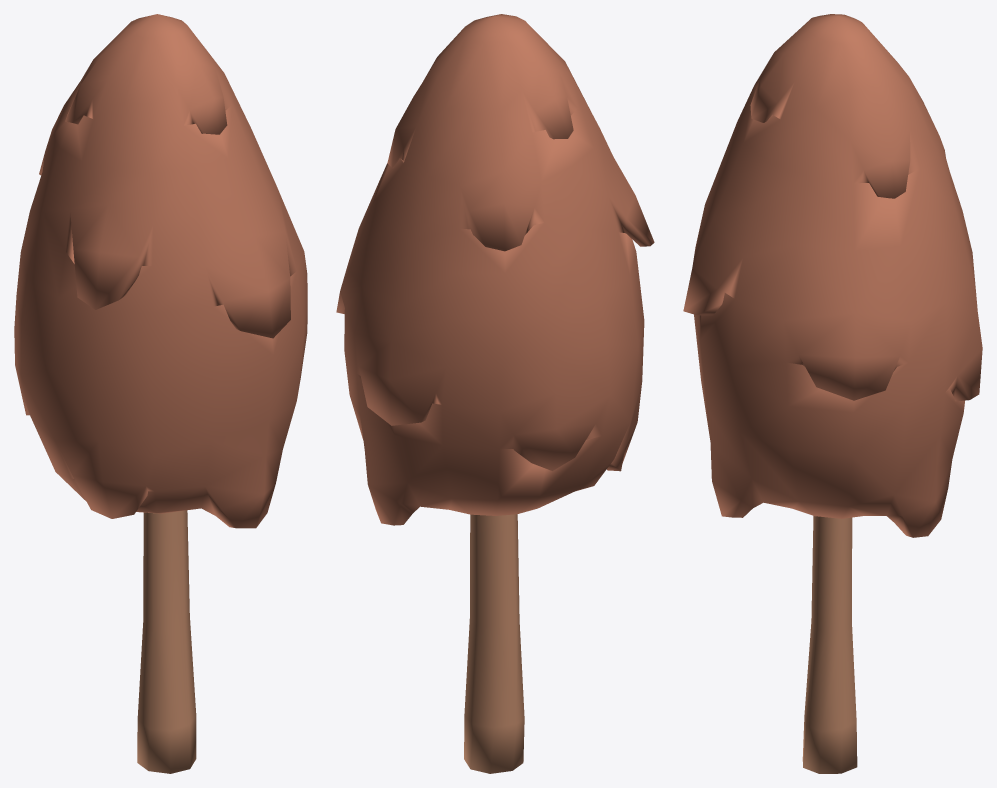
The model's file is Tree_F_01_LOD2.gltf.
3 views of the same model, side by side, from view 1: azimuth 30°, elevation 25°; view 2: azimuth 150°, elevation 25°; view 3: azimuth 270°, elevation 25° (orthographic).
Parts seen in each view (by area): view 1: Tree_F_01_LOD2_Cylinder.597; view 2: Tree_F_01_LOD2_Cylinder.597; view 3: Tree_F_01_LOD2_Cylinder.597.
Boxes of the visible parts, box(x1,y1,x2,y2) form: Tree_F_01_LOD2_Cylinder.597: box(14, 14, 307, 773); Tree_F_01_LOD2_Cylinder.597: box(336, 14, 654, 773); Tree_F_01_LOD2_Cylinder.597: box(683, 14, 982, 773).
Bounding box in the file's own units: 5.99 × 16.15 × 5.86.
1 material, 1 textured.
